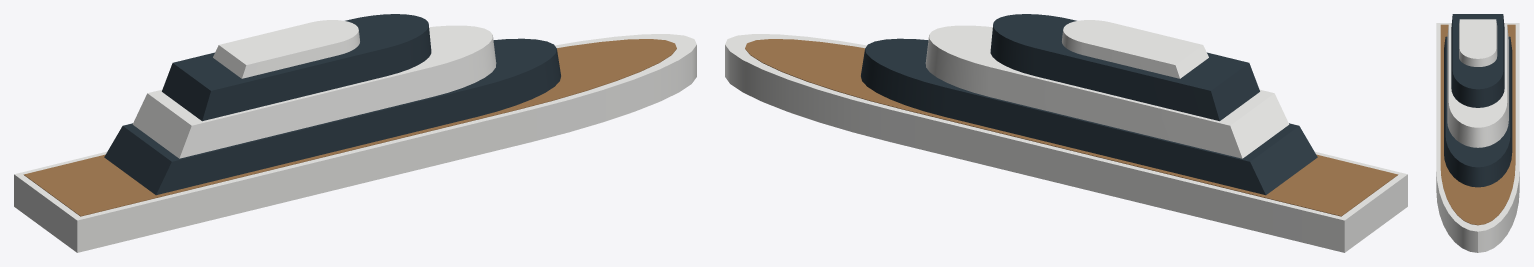
The model's file is fleet-models.glb.
The picture shows the model from 3 angles, left to right: view 1: azimuth 30°, elevation 25°; view 2: azimuth 150°, elevation 25°; view 3: azimuth 270°, elevation 25°; orthographic projection. The views are drawn at different scales.
Parts seen in each view (by area): view 1: Y3 Yacht L | white, Y3 Yacht L | glass, Y3 Yacht L | teak; view 2: Y3 Yacht L | white, Y3 Yacht L | glass, Y3 Yacht L | teak; view 3: Y3 Yacht L | white, Y3 Yacht L | glass, Y3 Yacht L | teak.
Boxes of the visible parts, left/top/right/bottom form: Y3 Yacht L | white: left=14, top=20, right=696, bottom=252; Y3 Yacht L | glass: left=104, top=14, right=560, bottom=195; Y3 Yacht L | teak: left=23, top=39, right=676, bottom=216; Y3 Yacht L | white: left=725, top=20, right=1407, bottom=252; Y3 Yacht L | glass: left=861, top=14, right=1317, bottom=195; Y3 Yacht L | teak: left=745, top=39, right=1398, bottom=216; Y3 Yacht L | white: left=1436, top=19, right=1519, bottom=252; Y3 Yacht L | glass: left=1444, top=14, right=1512, bottom=187; Y3 Yacht L | teak: left=1440, top=24, right=1515, bottom=225.
Size of the model in its own units: 80 by 15.22 by 13.5.
